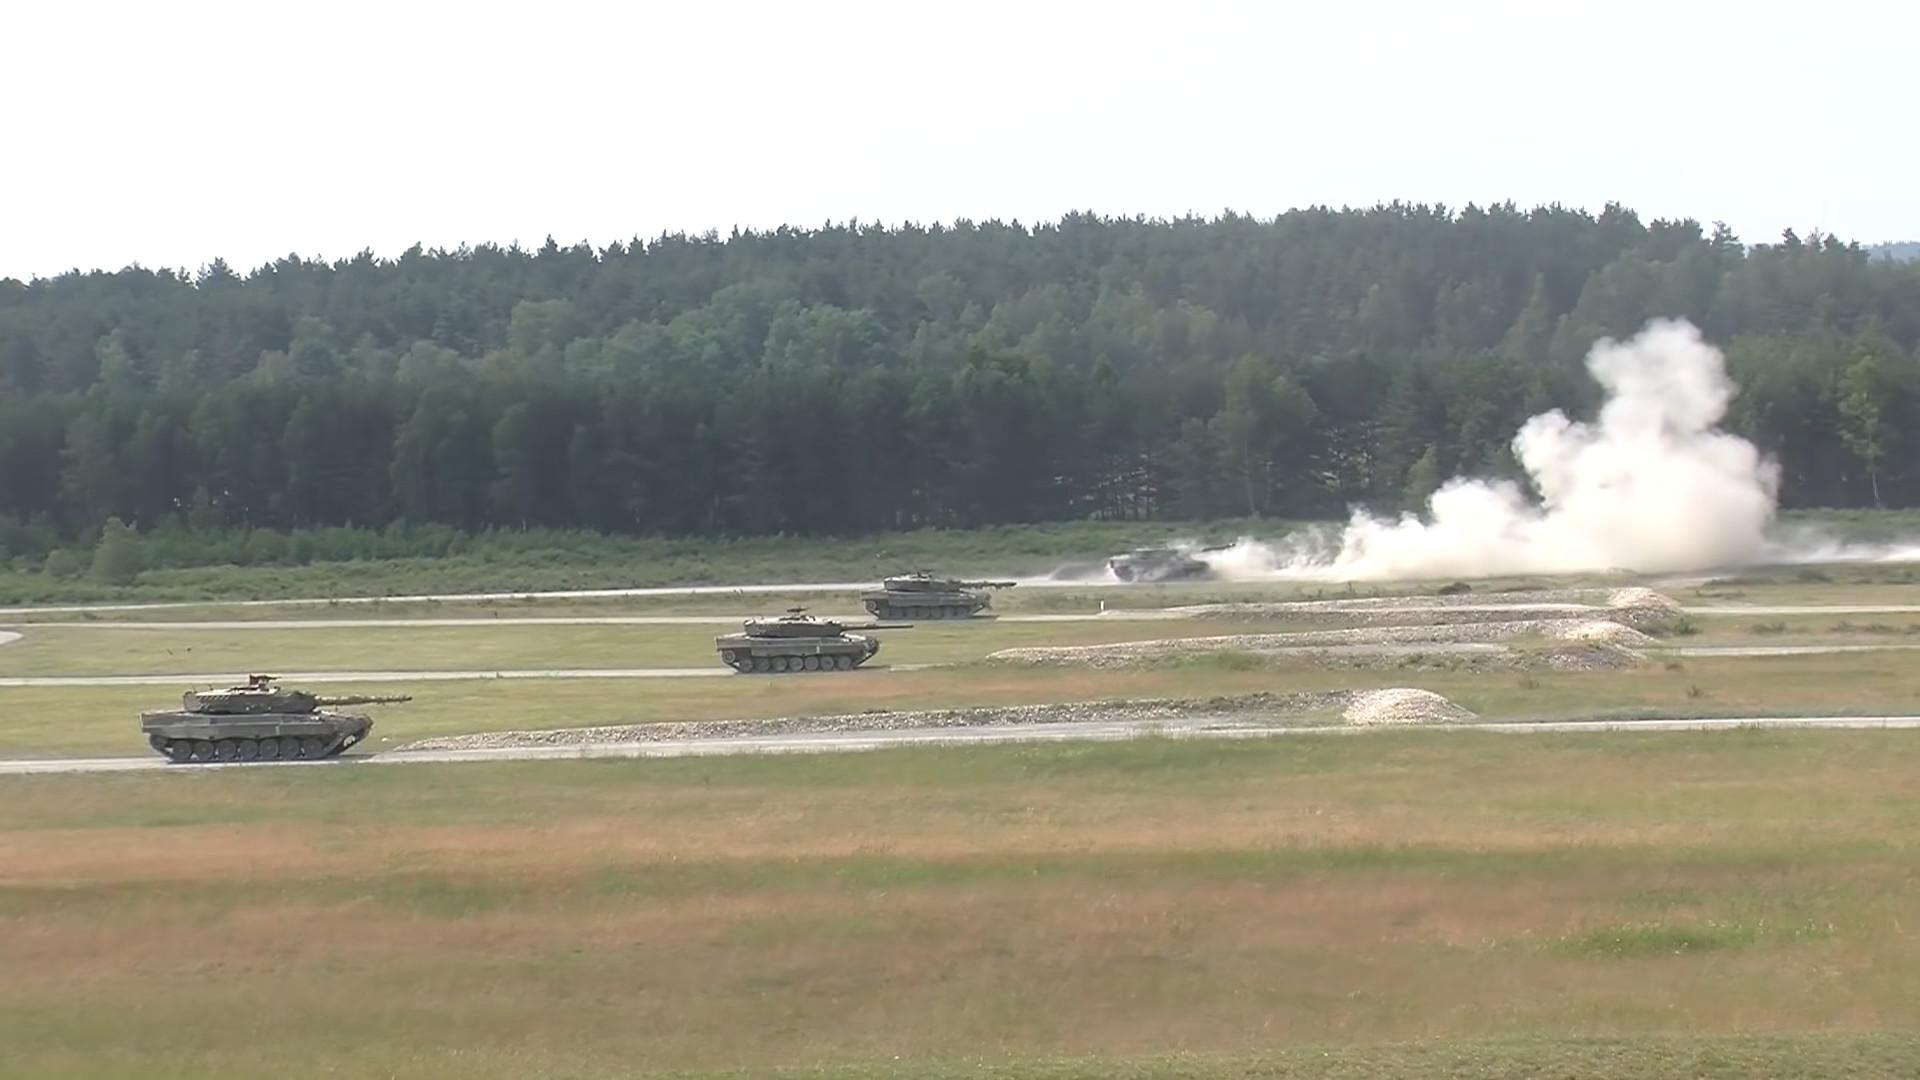tank: (142, 694, 411, 761), (716, 621, 914, 673), (862, 579, 1017, 618), (1110, 543, 1234, 583)
